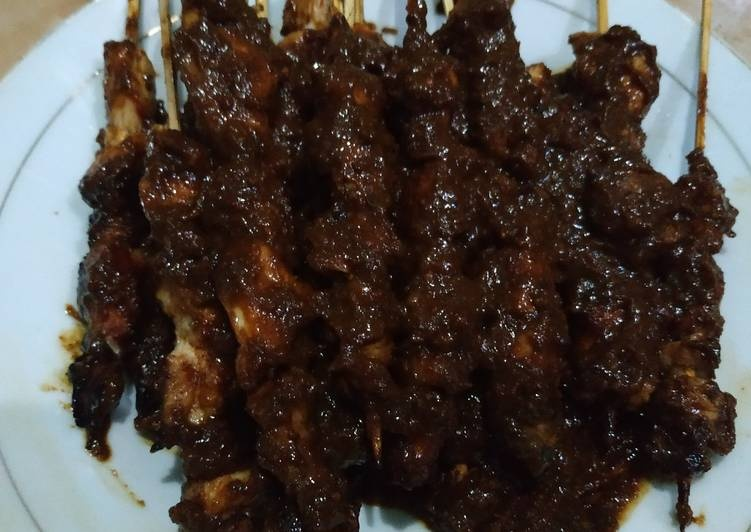sate_madura: (72, 1, 735, 530)
